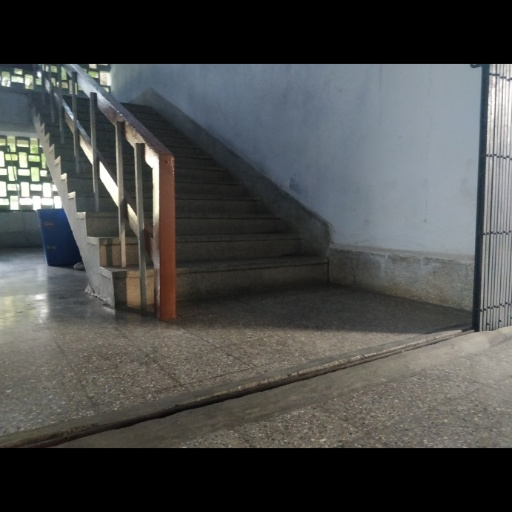Stairs: (126, 105, 327, 300)
